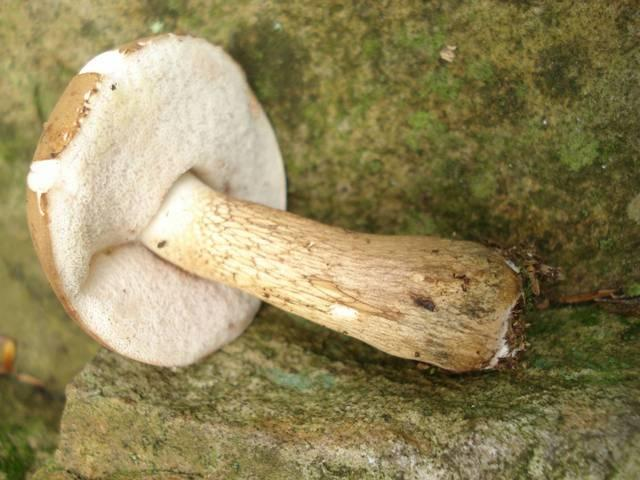Non-edible Mushroom: (24, 30, 541, 409)
